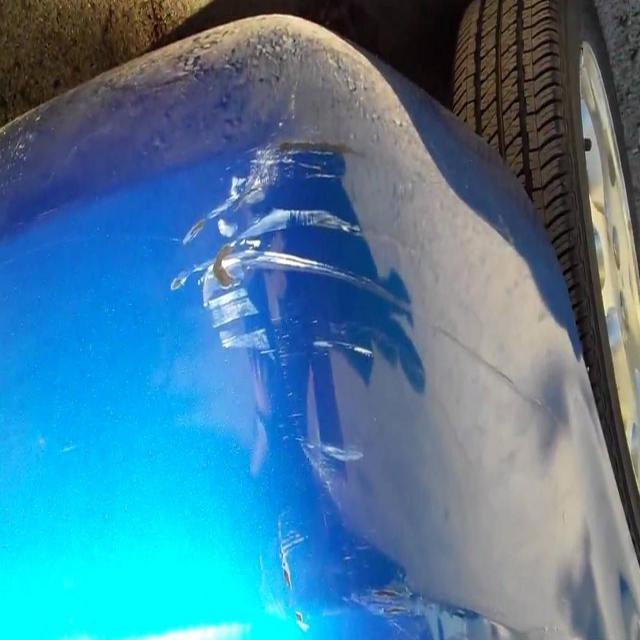scratch: (146, 96, 397, 526)
